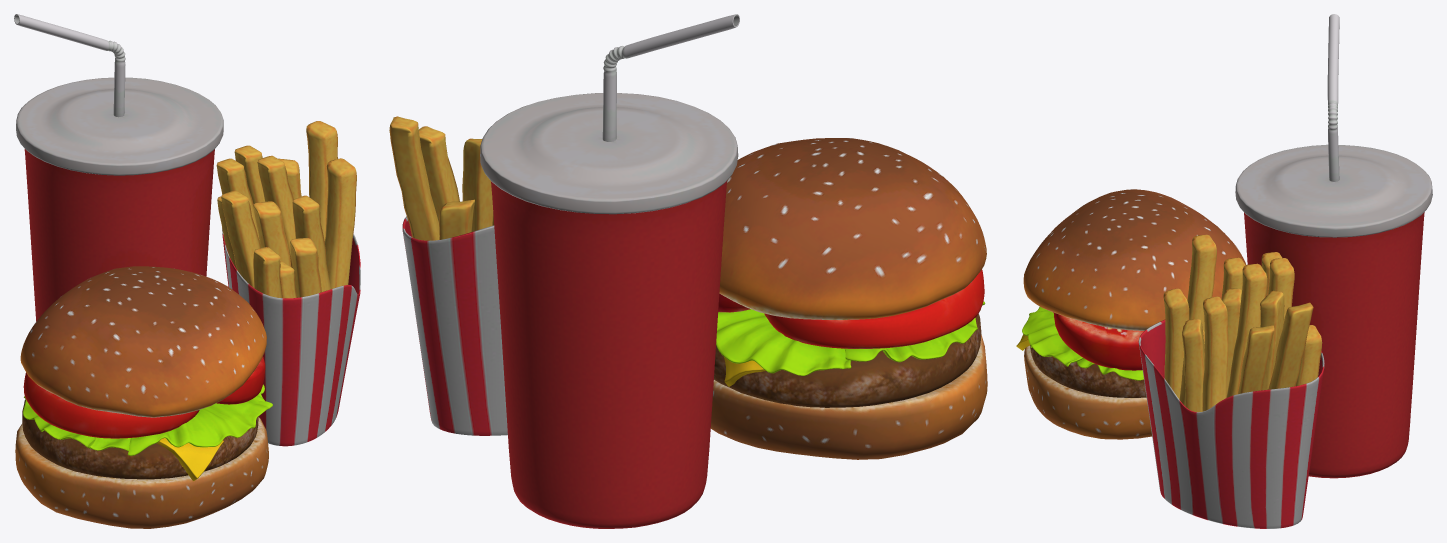
File: burger.glb
3 renders of one model, left to right at view 1: azimuth 30°, elevation 25°; view 2: azimuth 150°, elevation 25°; view 3: azimuth 270°, elevation 25°, orthographic. The views are drawn at different scales.
Parts seen in each view (by area): view 1: node_id5; view 2: node_id5; view 3: node_id5.
Part boxes in pixels (bbox=[...]): node_id5: bbox=[14, 14, 360, 528]; node_id5: bbox=[389, 14, 987, 528]; node_id5: bbox=[1016, 14, 1432, 528].
Size of the model in its own units: 0.00505 by 0.00512 by 0.00497.
Materials: 1 (1 with a texture image).
